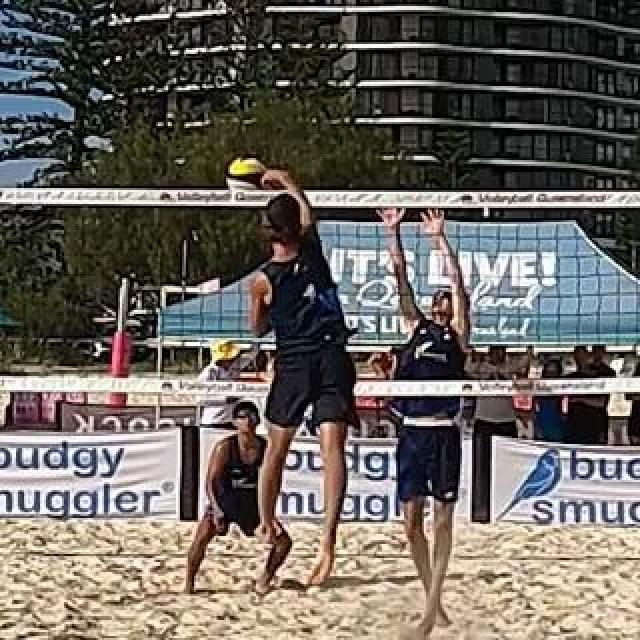volleyball: (227, 155, 267, 191)
